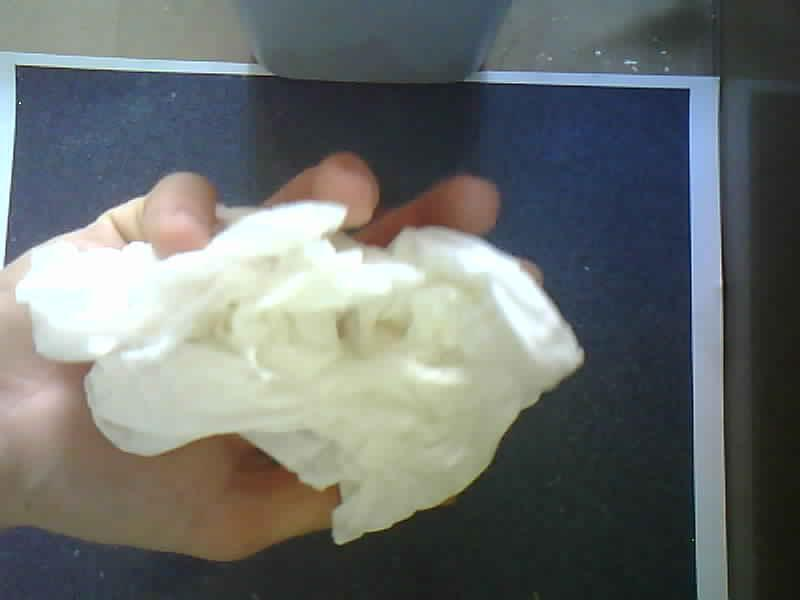paper: (16, 200, 583, 551)
